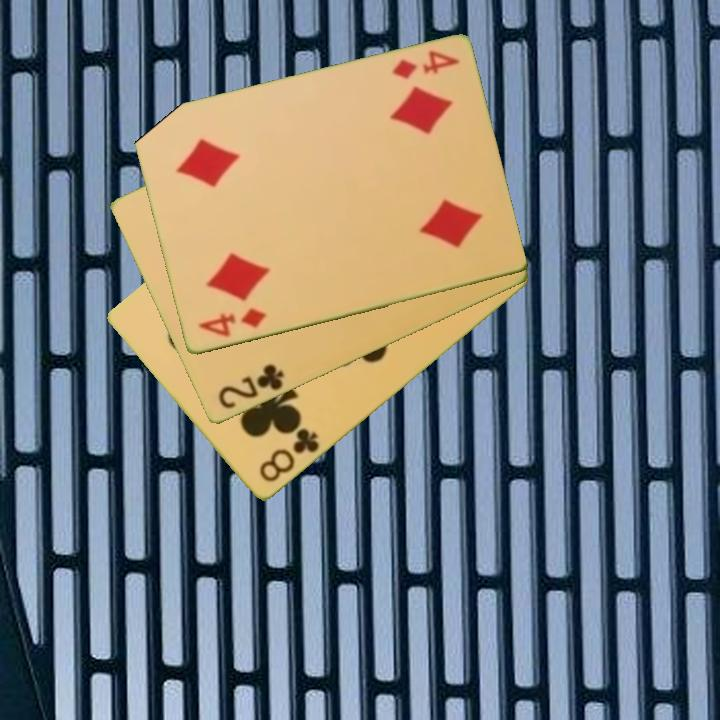2c: (214, 360, 287, 413)
4d: (388, 47, 462, 83), (194, 305, 269, 340)
8c: (255, 425, 322, 486)
